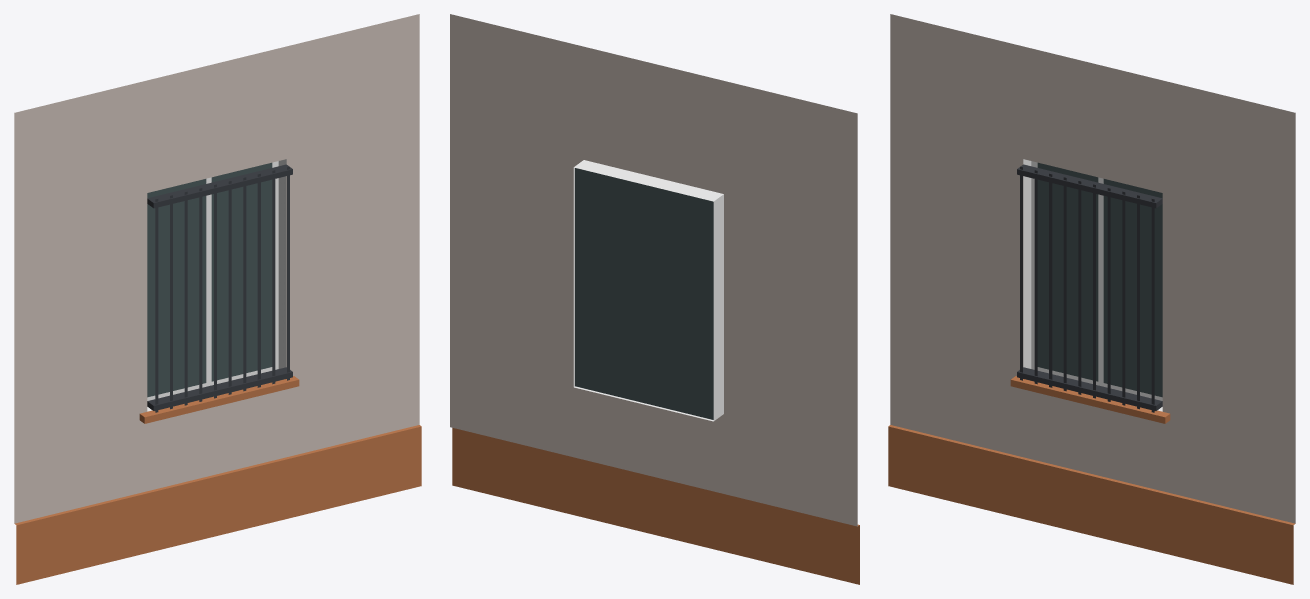
3 views of the same model, side by side, from view 1: azimuth 30°, elevation 25°; view 2: azimuth 150°, elevation 25°; view 3: azimuth 330°, elevation 25° (orthographic).
Visible parts, largest first — view 1: a2000s2/200/base-w1; view 2: a2000s2/200/base-w1; view 3: a2000s2/200/base-w1.
Part boxes in pixels (x1,y1,x2,y2): a2000s2/200/base-w1: (14, 14, 421, 584); a2000s2/200/base-w1: (450, 14, 859, 584); a2000s2/200/base-w1: (888, 14, 1295, 584).
Bounding box in the file's own units: 3.2 × 3.55 × 0.23.
